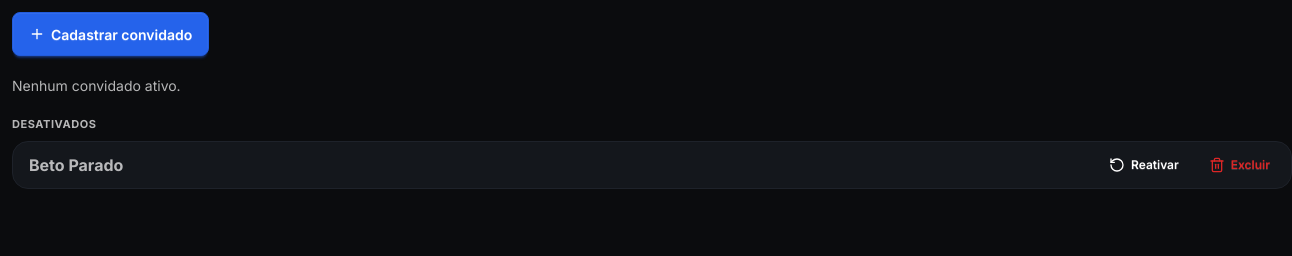
CommunityGuestsArea › erro ao excluir aparece em role alert
Click the button "Excluir": coordinates (1239, 164) [1196,142,1283,186]
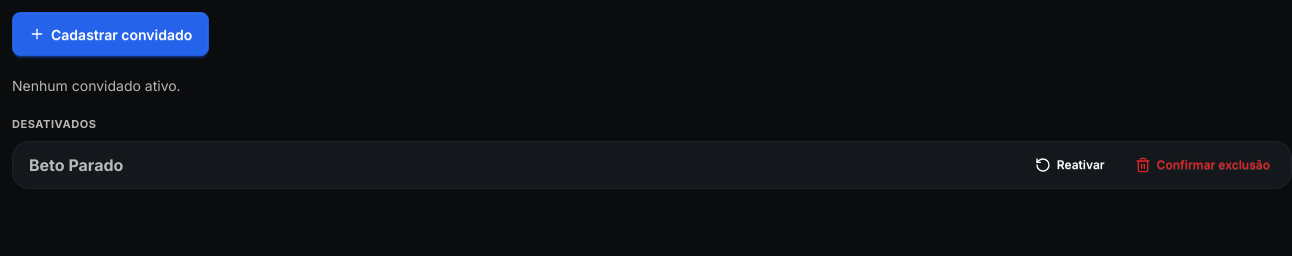
Click the button "Confirmar exclusão": coordinates (1202, 164) [1122,142,1283,186]
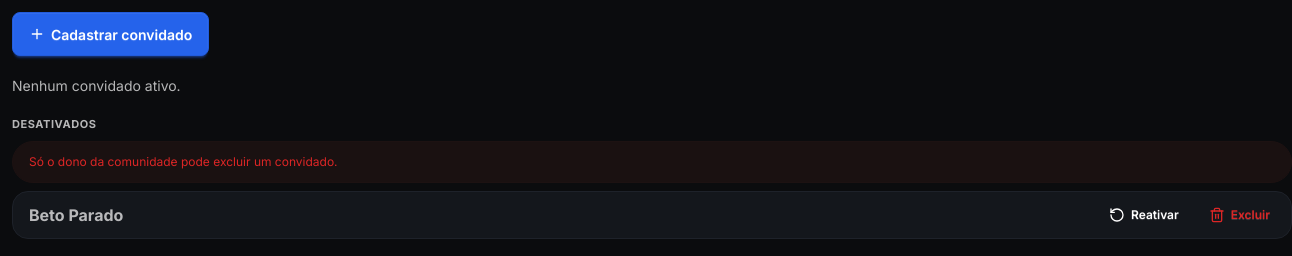
Check: the message shows "Só o dono", box [29,154,338,168]
